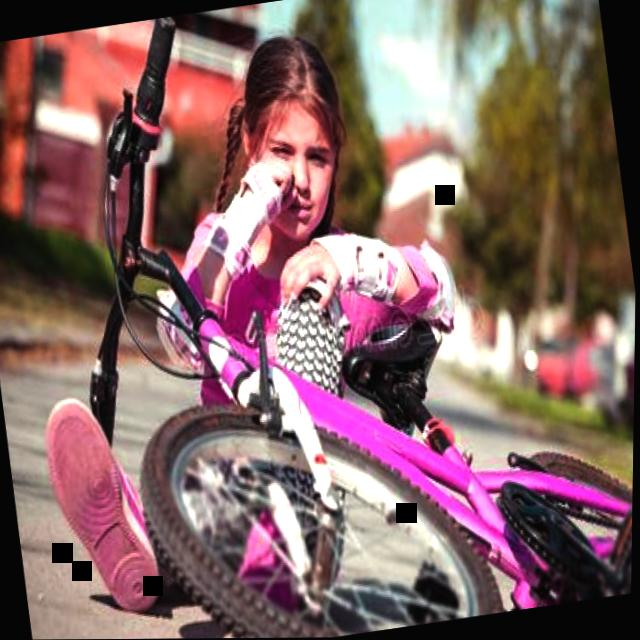Fall-Detected: (0, 0, 533, 552)
